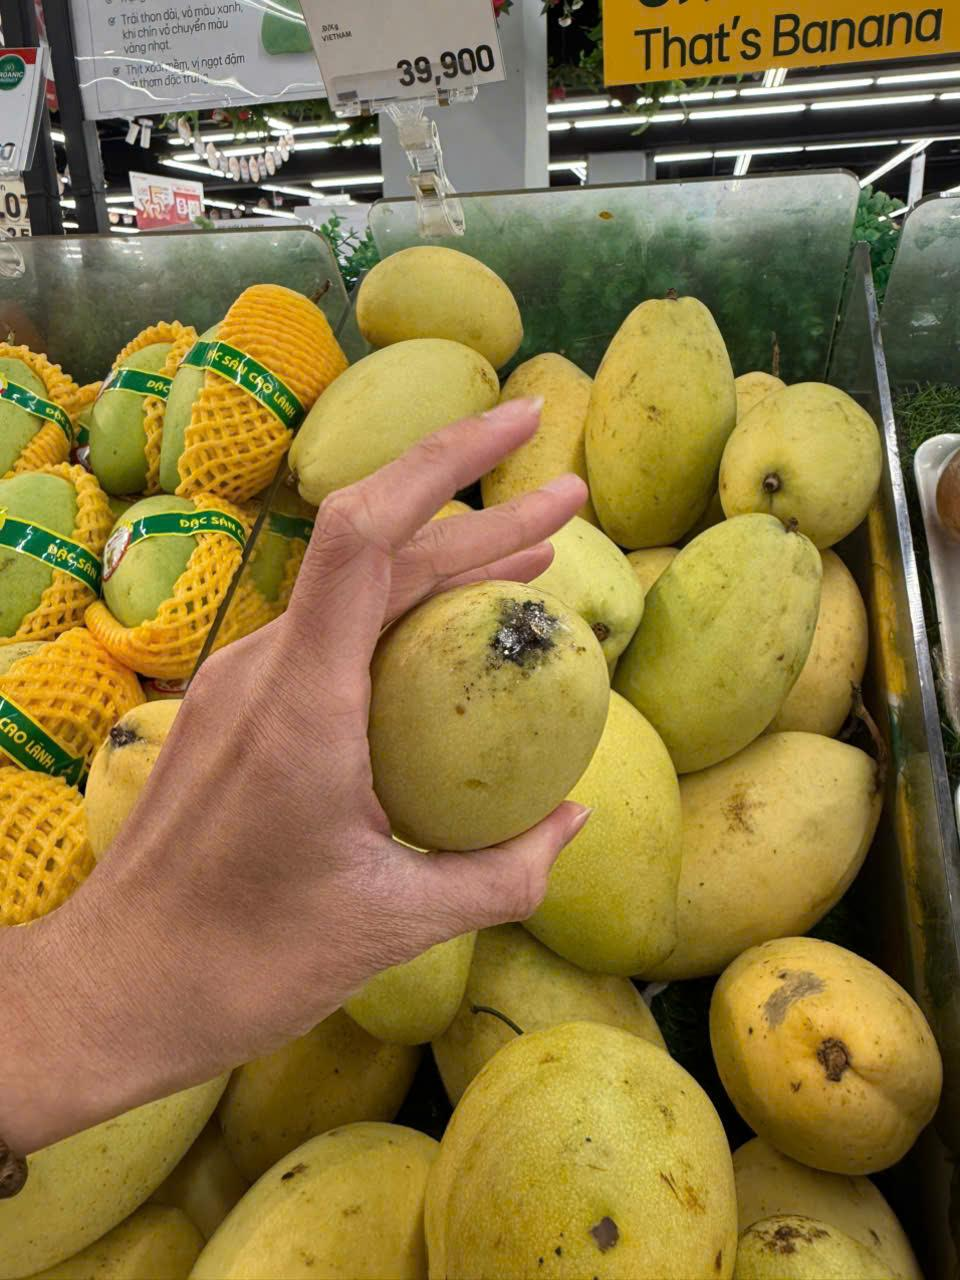mango: (421, 1016, 752, 1280), (710, 918, 940, 1172), (382, 601, 599, 840), (630, 523, 804, 768), (675, 736, 876, 939), (198, 1113, 434, 1280), (578, 293, 720, 534), (345, 236, 532, 364), (735, 378, 876, 543)
